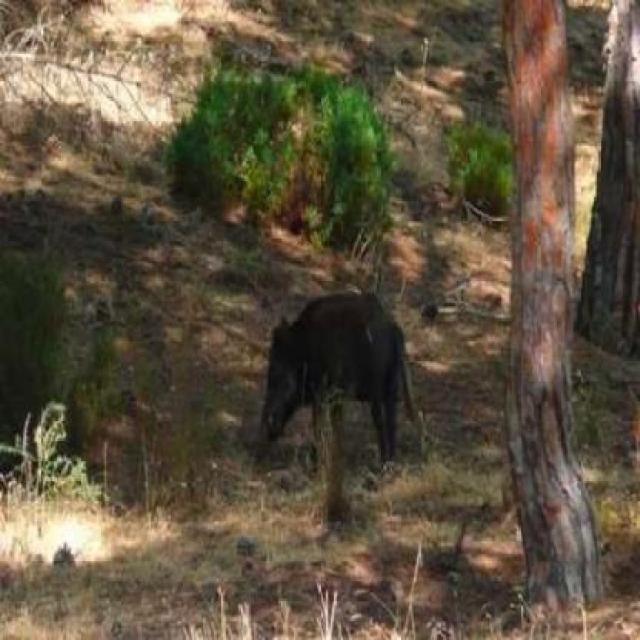Boar: (242, 262, 443, 508)
